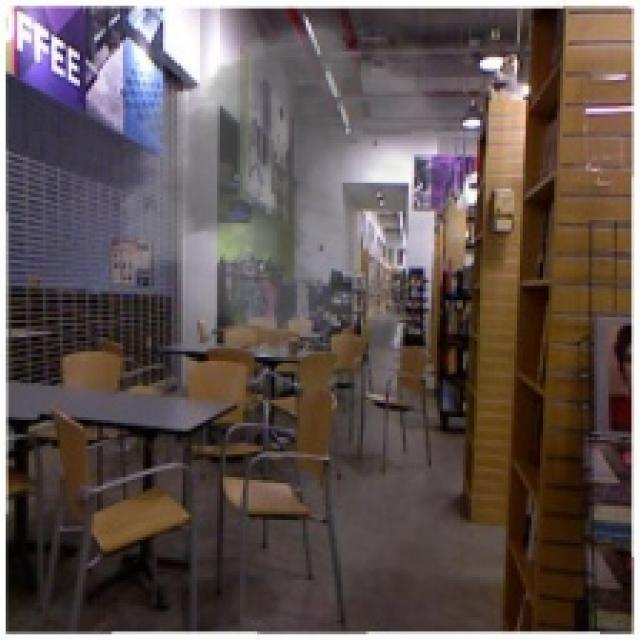smoke: (100, 6, 491, 360)
